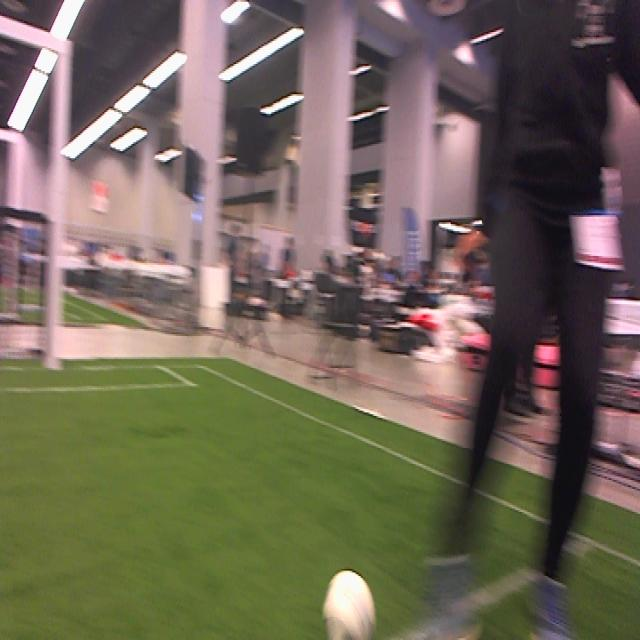ball: (321, 571, 377, 638)
goalpost: (44, 35, 72, 362)
